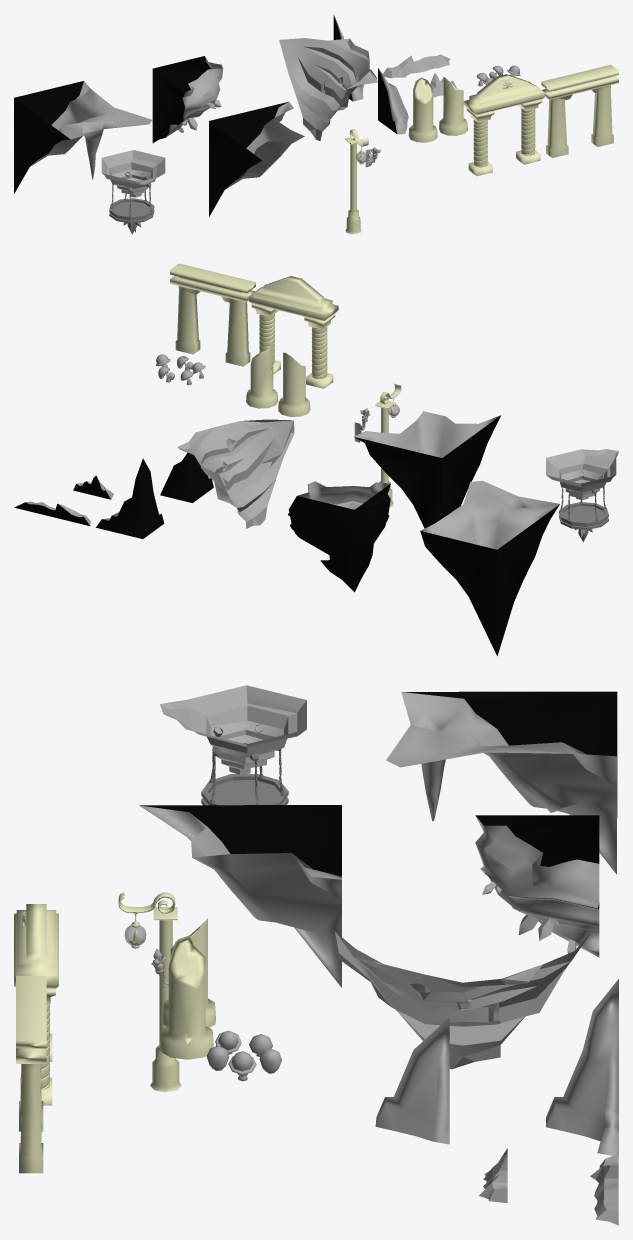
File: AssetsBasicTexture.fbx
3 renders of one model, top to bottom at view 1: azimuth 30°, elevation 25°; view 2: azimuth 150°, elevation 25°; view 3: azimuth 270°, elevation 25°, orthographic. The views are drawn at different scales.
Parts seen in each view (by area): view 1: UCorner_Stalag1, UMiddle_Ore1, UCorner_Normal2, UCorner_Ore1, Arch2, Arch1, Rock, BrokenPillar1, LCorner_Normal1, Chandelier, BrokenPillar2, Body (+2 smaller); view 2: UCorner_Stalag1, UCorner_Normal2, UMiddle_Ore1, UCorner_Ore1, Arch1, Arch2, Rock, LCorner_Normal2, LCorner_Normal1, BrokenPillar2, Chandelier, BrokenPillar1 (+2 smaller); view 3: UCorner_Stalag1, UCorner_Normal2, UCorner_Ore1, UMiddle_Ore1, Rock, LCorner_Normal2, LCorner_Normal1, Arch1, BrokenPillar2, Arch2, Body, Chandelier (+4 smaller).
Part boxes in pixels (box(x1,y1,x2,y2)): UCorner_Stalag1: box(14, 81, 152, 193); UMiddle_Ore1: box(279, 38, 369, 140); UCorner_Normal2: box(209, 101, 304, 216); UCorner_Ore1: box(152, 56, 223, 142); Arch2: box(463, 74, 544, 176); Arch1: box(541, 64, 618, 158); Rock: box(101, 150, 165, 197); BrokenPillar1: box(408, 77, 437, 142); LCorner_Normal1: box(378, 68, 408, 134); Chandelier: box(109, 172, 154, 234); BrokenPillar2: box(439, 77, 467, 135); Body: box(345, 129, 368, 234); UCorner_Stalag1: box(420, 480, 559, 655); UCorner_Normal2: box(354, 411, 501, 528); UMiddle_Ore1: box(177, 419, 294, 528); UCorner_Ore1: box(288, 481, 390, 592); Arch1: box(170, 263, 255, 366); Arch2: box(248, 276, 338, 388); Rock: box(546, 449, 618, 500); LCorner_Normal2: box(96, 458, 164, 538); LCorner_Normal1: box(160, 452, 213, 502); BrokenPillar2: box(246, 343, 278, 408); Chandelier: box(559, 471, 608, 541); BrokenPillar1: box(278, 352, 310, 416); UCorner_Stalag1: box(386, 691, 617, 874); UCorner_Normal2: box(139, 805, 341, 987); UCorner_Ore1: box(475, 815, 599, 957); UMiddle_Ore1: box(333, 931, 590, 1069); Rock: box(160, 685, 306, 775); LCorner_Normal2: box(546, 979, 618, 1156); LCorner_Normal1: box(375, 1017, 449, 1144); Arch1: box(16, 975, 46, 1173); BrokenPillar2: box(160, 935, 213, 1059); Arch2: box(14, 904, 58, 1105); Body: box(118, 891, 181, 1092); Chandelier: box(201, 724, 288, 805).
Bounding box in the file's own units: 16.46 × 5.18 × 9.96.
